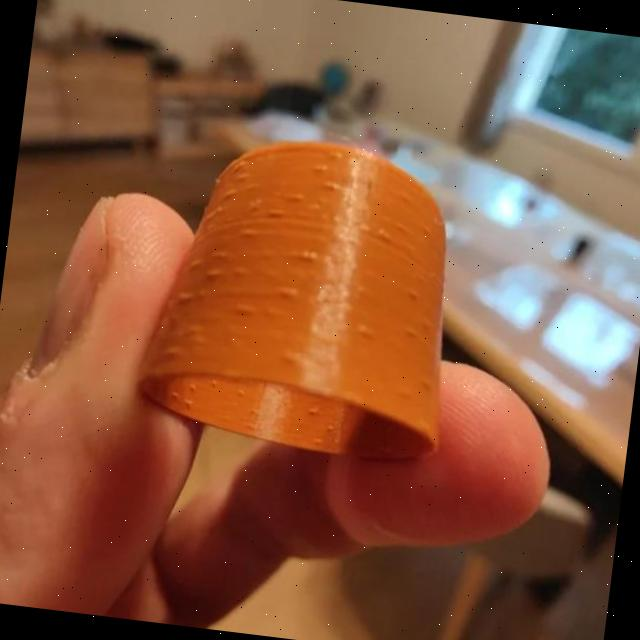blobs: (411, 376, 438, 398), (274, 281, 302, 302), (296, 246, 324, 264), (309, 158, 334, 178), (230, 301, 254, 319), (318, 174, 342, 192), (401, 321, 422, 341), (284, 184, 306, 203), (353, 317, 372, 338), (406, 284, 424, 306), (177, 286, 199, 304), (235, 226, 262, 240), (372, 228, 396, 242), (304, 402, 322, 420), (229, 259, 248, 276), (266, 206, 283, 222), (206, 268, 226, 281), (232, 386, 250, 400), (322, 419, 338, 434), (202, 378, 222, 390), (182, 381, 202, 392), (181, 396, 194, 408)
